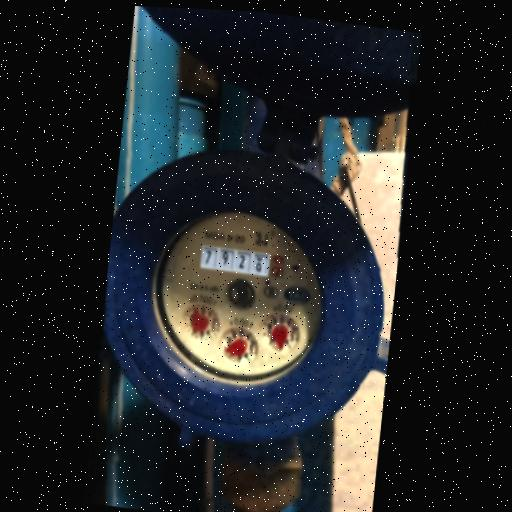2: (235, 251, 250, 271)
6: (271, 255, 284, 278)
7: (202, 247, 216, 268)
8: (252, 253, 267, 273)
9: (218, 249, 233, 269)
border_water_meter_number: (199, 244, 287, 280)
